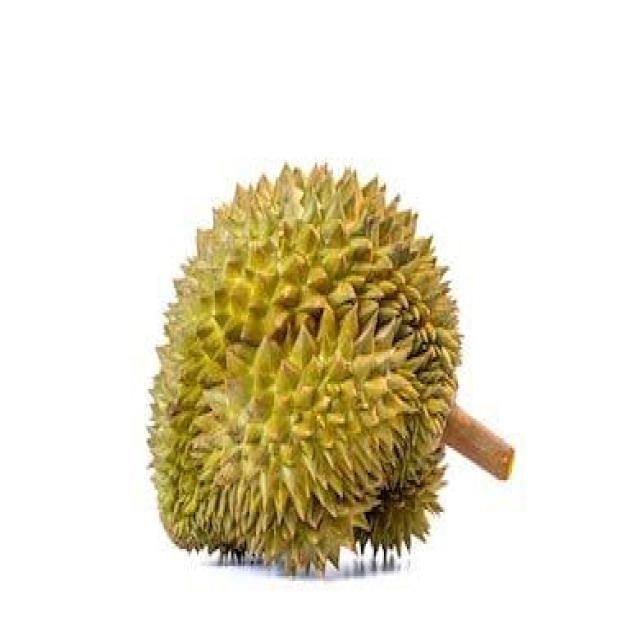mature: (149, 167, 461, 572)
